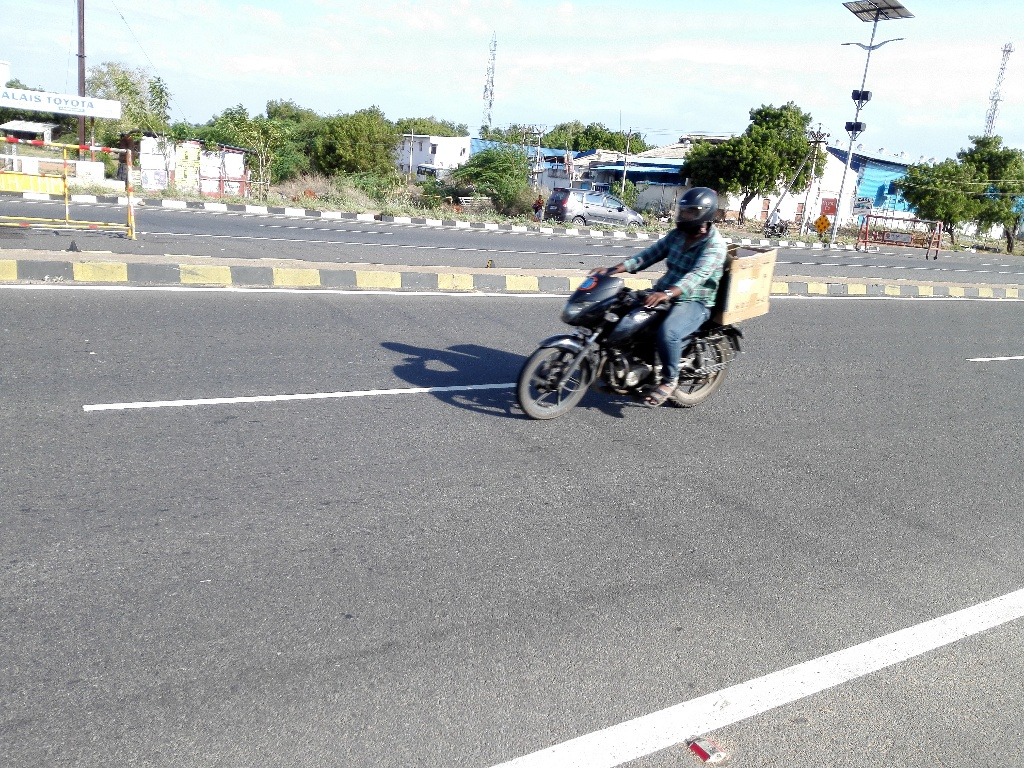biker: (502, 149, 802, 431)
helmet: (670, 177, 728, 241)
